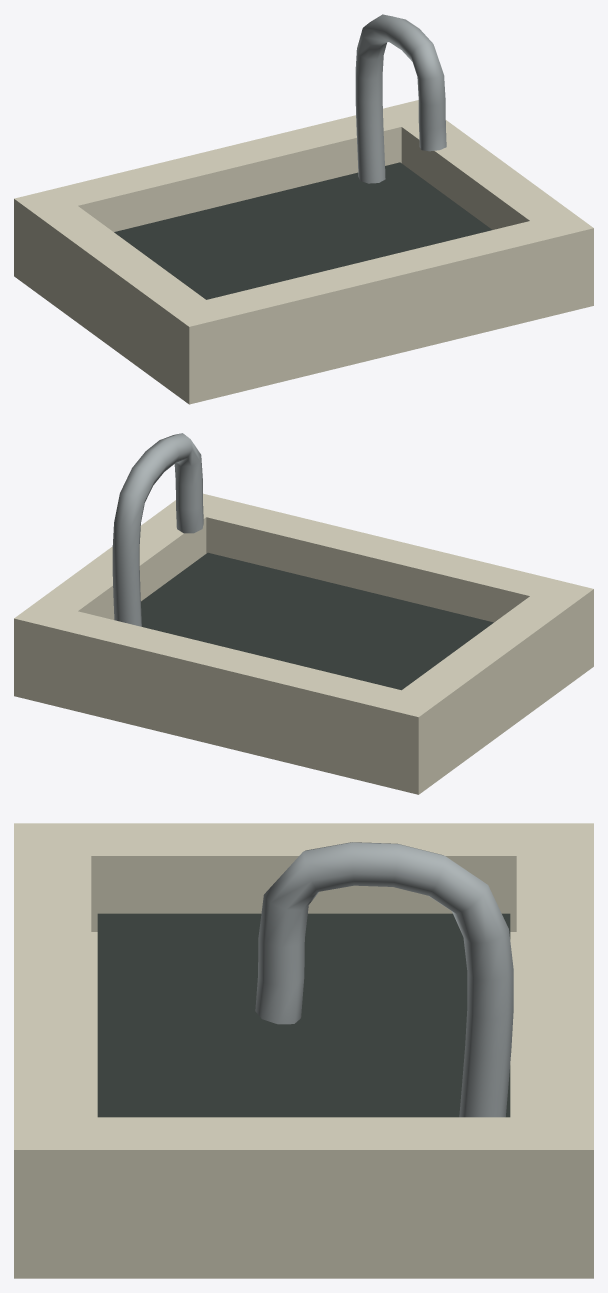
The model's file is suburban-outbreak-interiors-bathroom-basin-bf004956__19988.glb.
3 views of the same model, one above another, from view 1: azimuth 30°, elevation 25°; view 2: azimuth 150°, elevation 25°; view 3: azimuth 270°, elevation 25° (orthographic). The views are drawn at different scales.
Parts seen in each view (by area): view 1: bathroom-basin; view 2: bathroom-basin; view 3: bathroom-basin.
Boxes of the visible parts, x1,y1,x2,y2 form: bathroom-basin: [14, 14, 593, 404]; bathroom-basin: [14, 433, 593, 794]; bathroom-basin: [14, 823, 593, 1278].
Size of the model in its own units: 0.6 by 0.3171 by 0.45.
